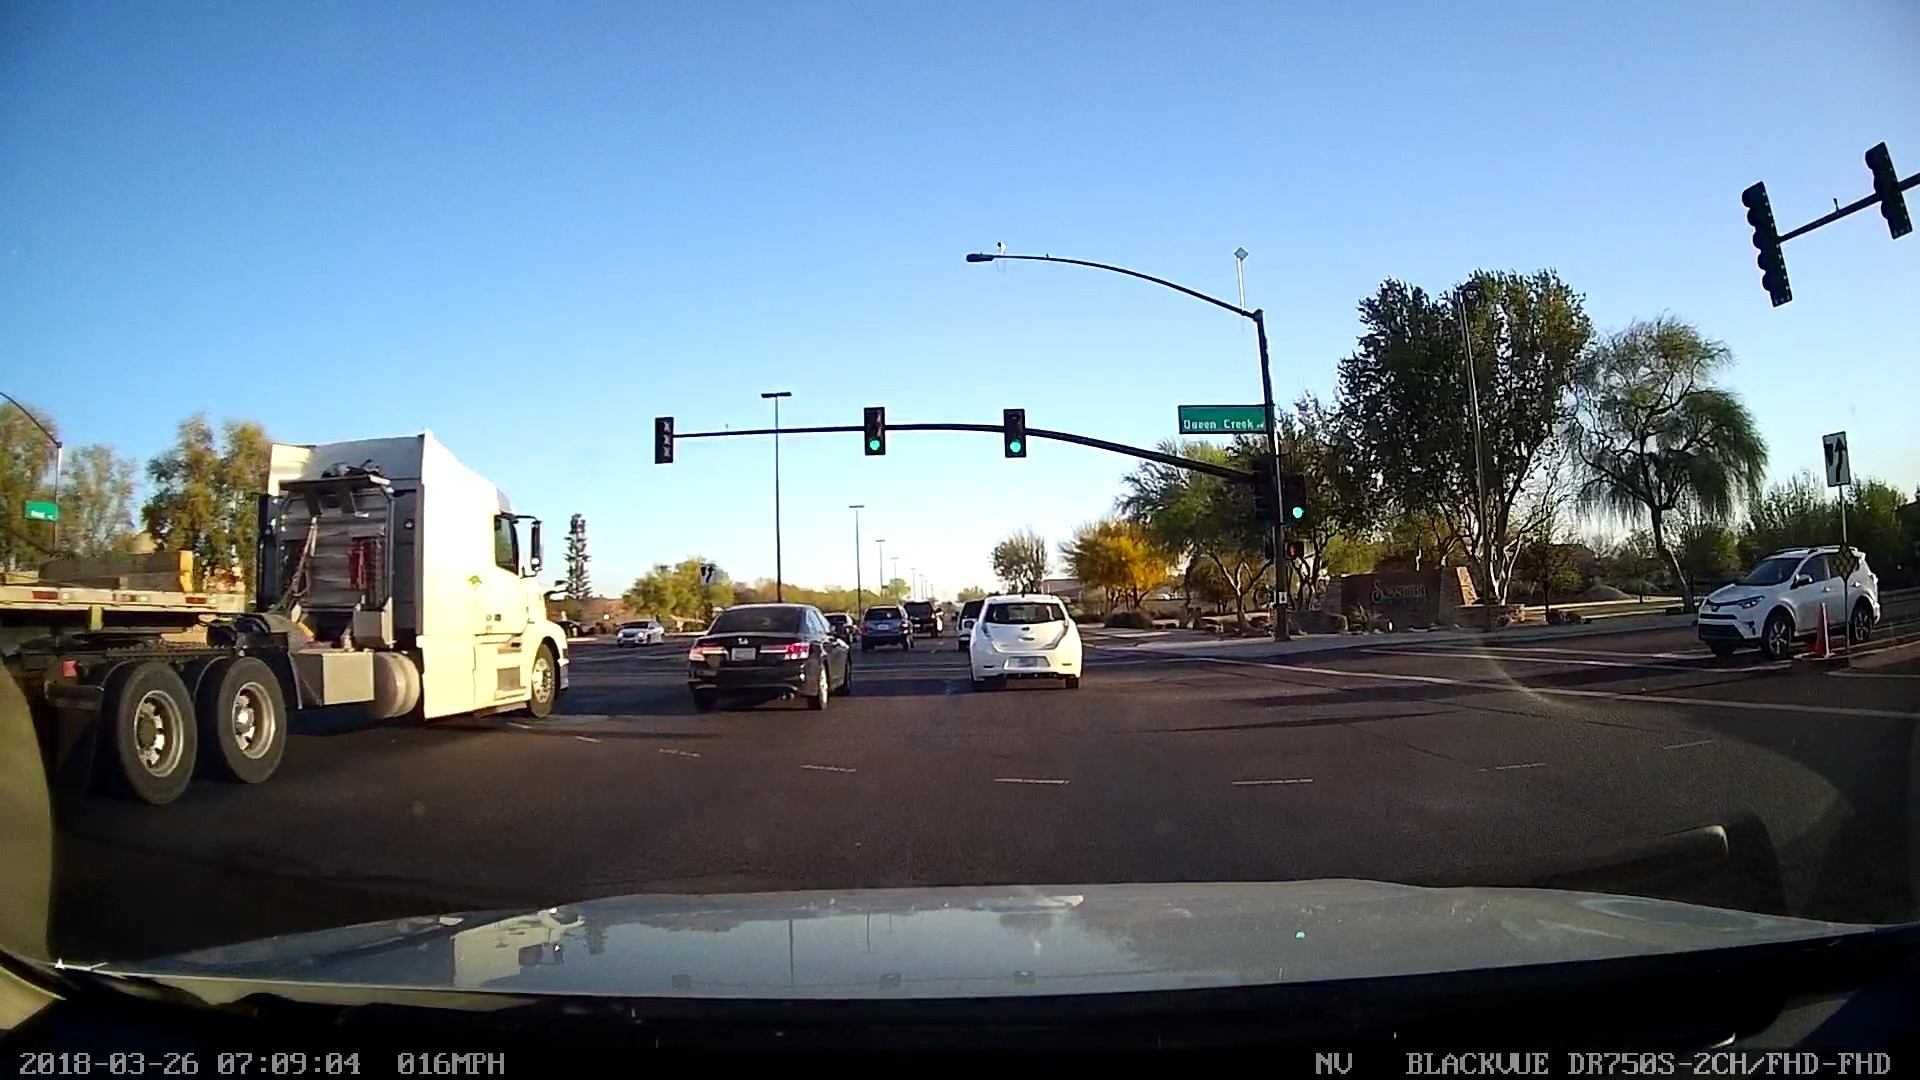vehicle: (1677, 522, 1888, 669), (676, 592, 866, 725), (948, 583, 1098, 709), (605, 597, 670, 654), (720, 640, 782, 671), (996, 646, 1048, 680)
